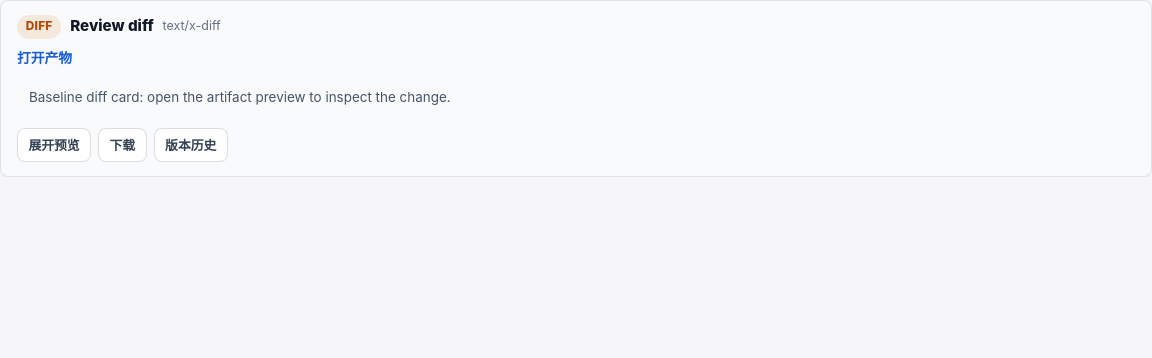
Test: ArtifactCard › renders Diff artifact previews with line-level markup
The image size is (1152, 358).
Click the button with aria-label "Open Review diff artifact workbench" at point(54, 145), box [17,128,91,162]
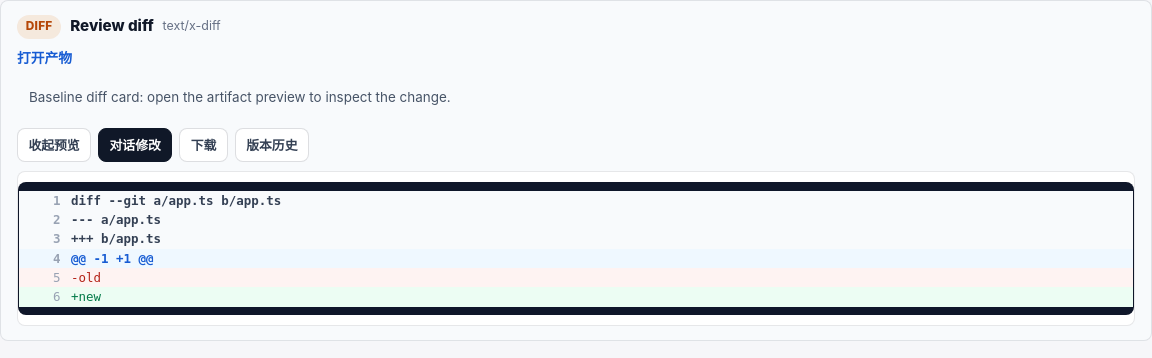
Expected: the element named "Diff preview" is shown, [18,182,1134,315]
Expected: the element showing "5 -old" is shown, [19,268,1133,287]
Expected: the element showing "6 +new" is shown, [19,287,1133,307]
